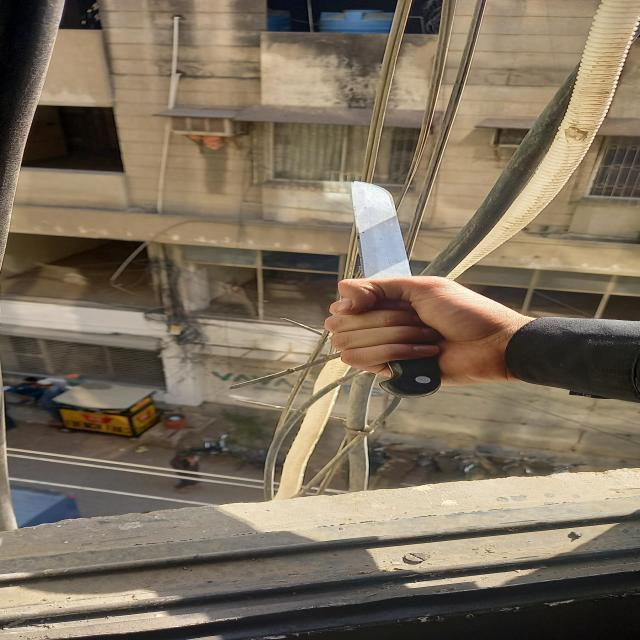knife: (340, 173, 453, 399)
